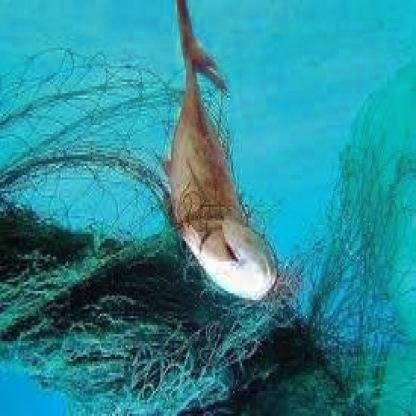net: (9, 234, 356, 416)
